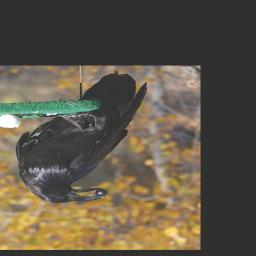Crow: (14, 71, 147, 203)
